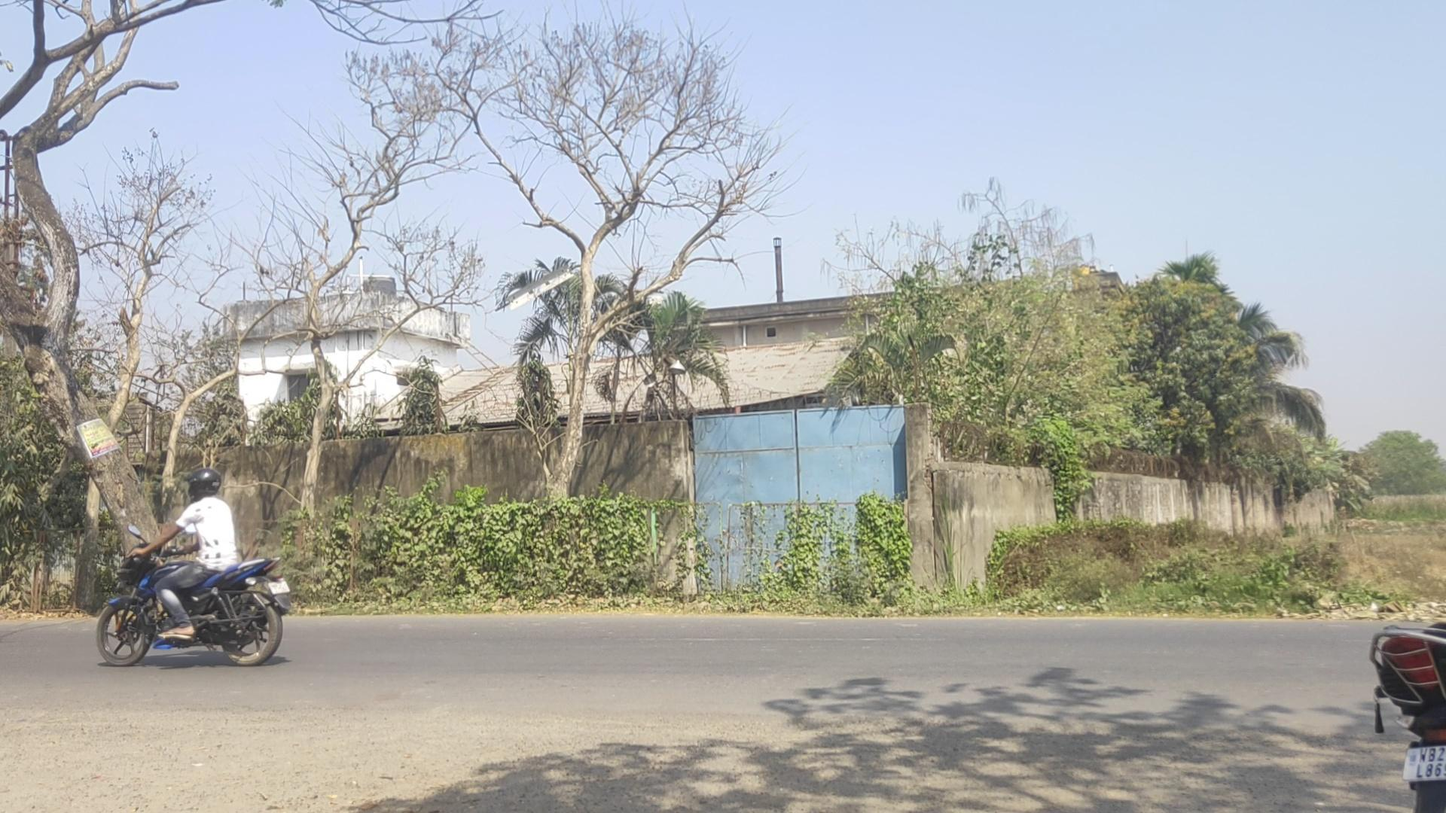bike: (96, 467, 291, 667)
